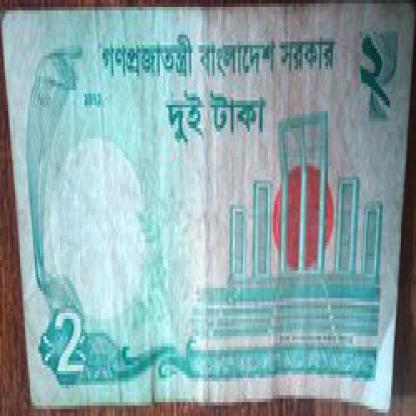two taka: (43, 305, 105, 385), (352, 24, 388, 118)
